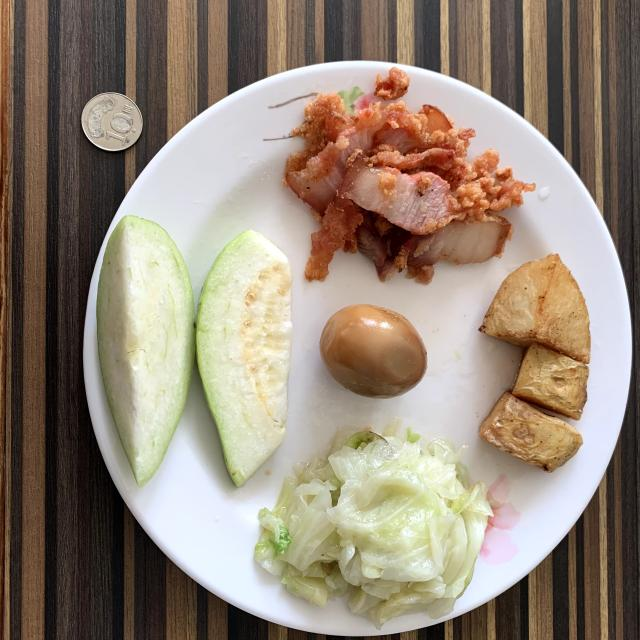cabbage: (255, 429, 494, 628)
coin: (81, 92, 142, 151)
fried potato: (479, 254, 590, 471)
guava -sliced-: (96, 216, 292, 486)
red grilled pork: (285, 68, 534, 284)
soy egg: (320, 305, 428, 398)
